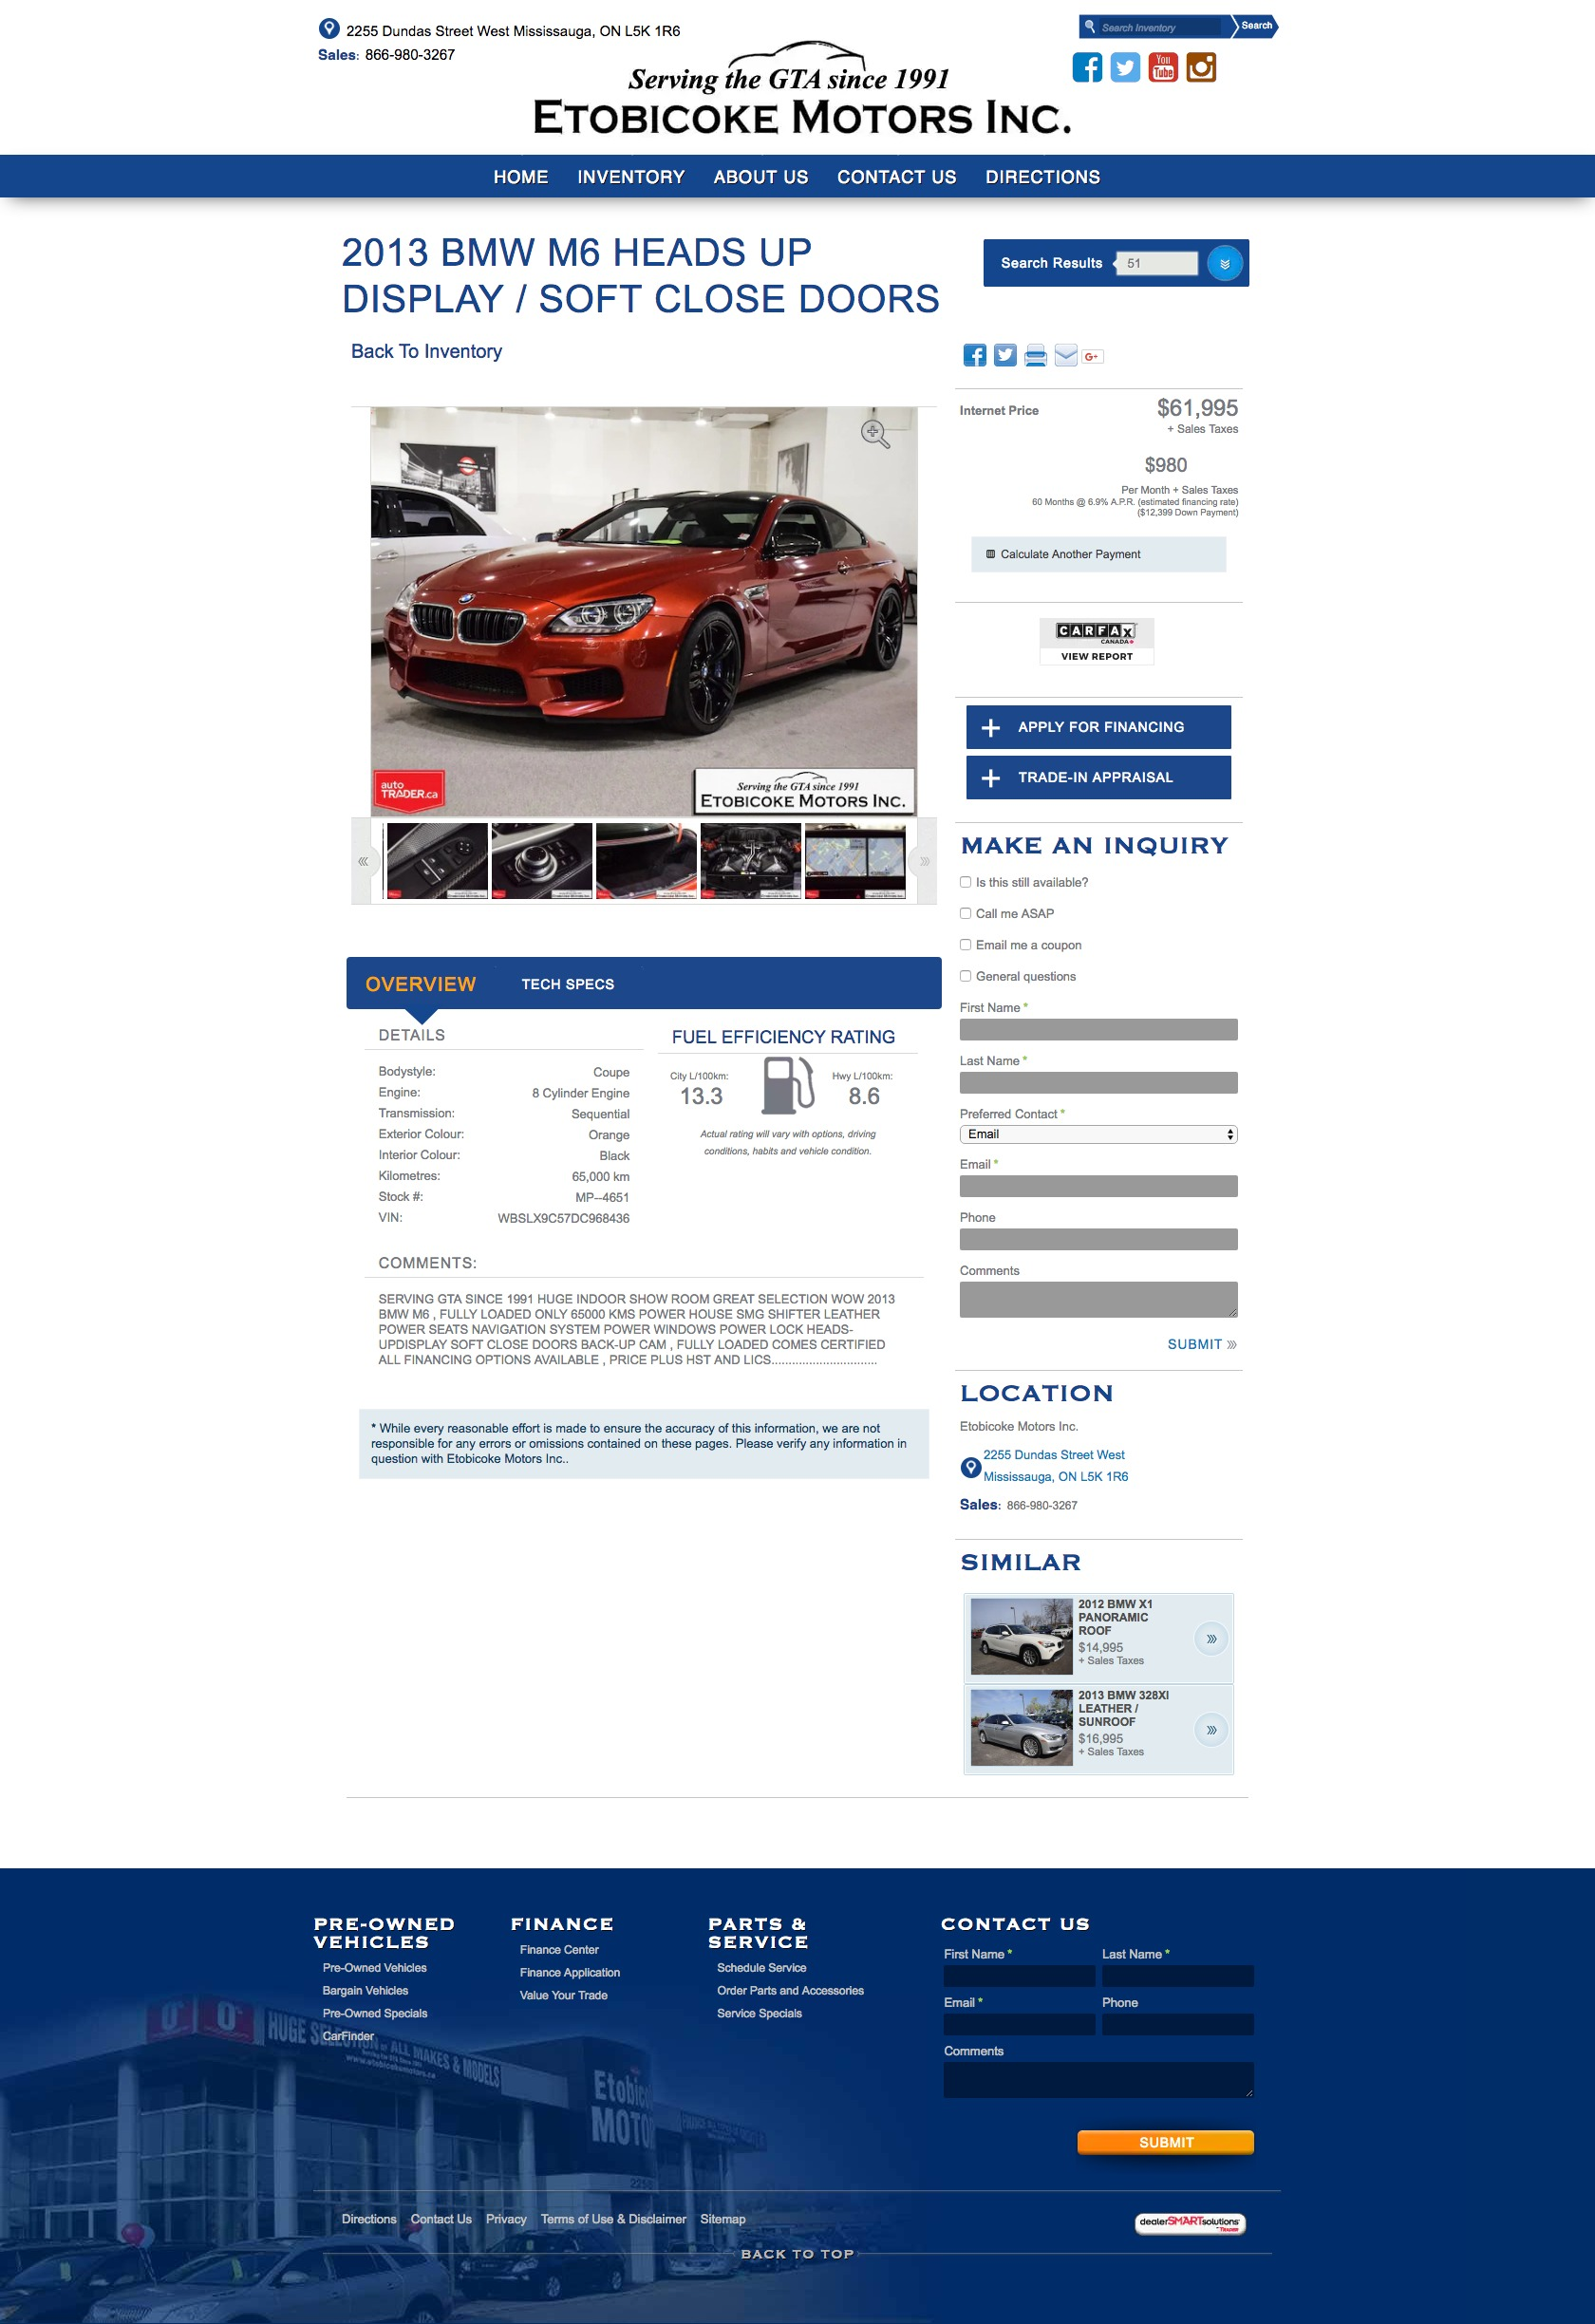car: (920, 856, 931, 867)
